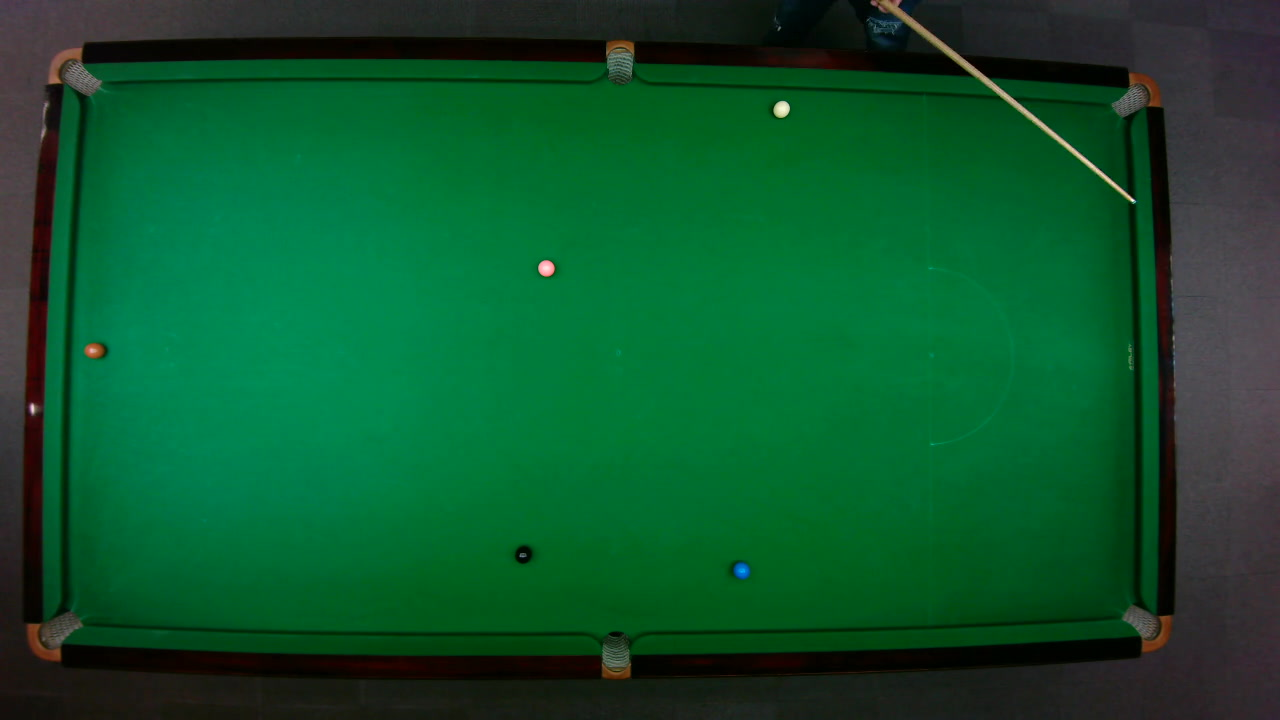bag: (25, 609, 83, 662), (45, 46, 101, 96), (1119, 603, 1172, 652), (1108, 71, 1162, 118), (600, 629, 629, 679), (605, 38, 633, 85)
black: (513, 544, 532, 563)
blue: (731, 560, 750, 579)
brown: (83, 341, 106, 358)
cue: (894, 2, 1137, 207)
pink: (536, 258, 555, 277)
white: (771, 99, 790, 118)
zone: (927, 265, 1013, 445)
